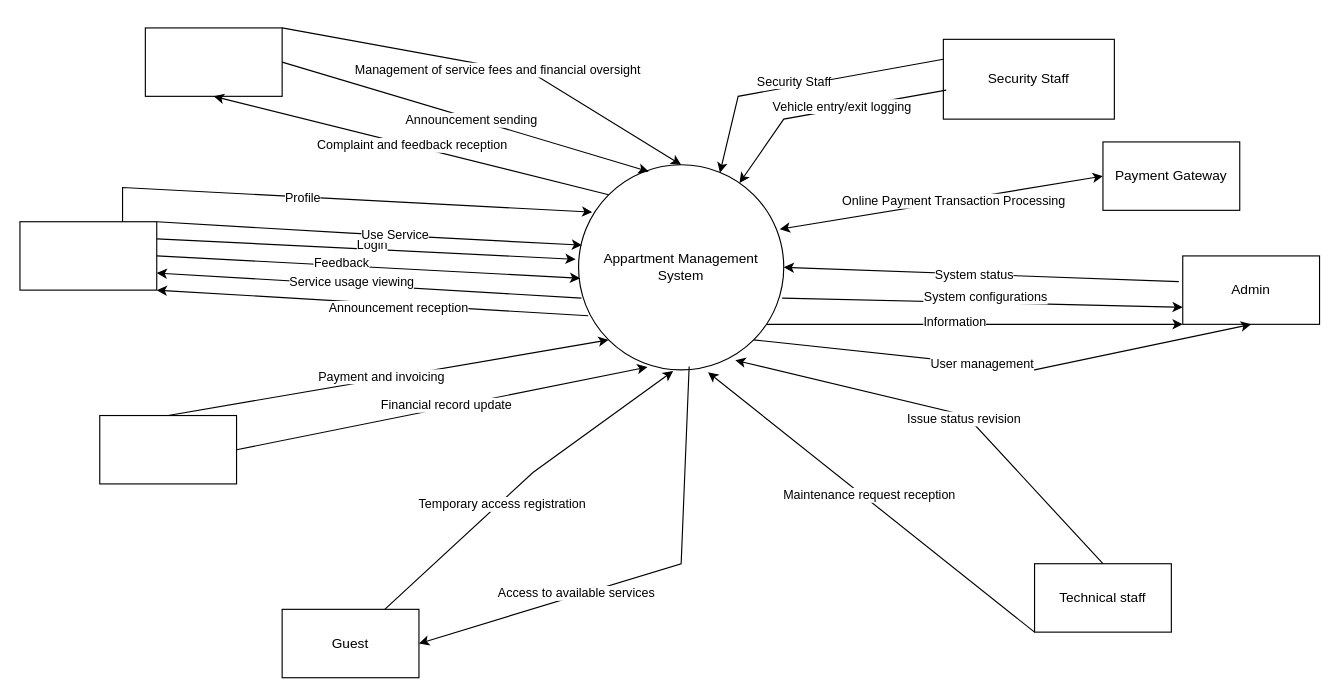
This 1340x698 diagram has some shape labels left out. The shapes that lost their labels are listed below. From the top down, each one's centre as x and y in pixels, then its label:
pixel 213 61: Apartment Manager
pixel 88 255: Resident
pixel 168 449: Accountant
